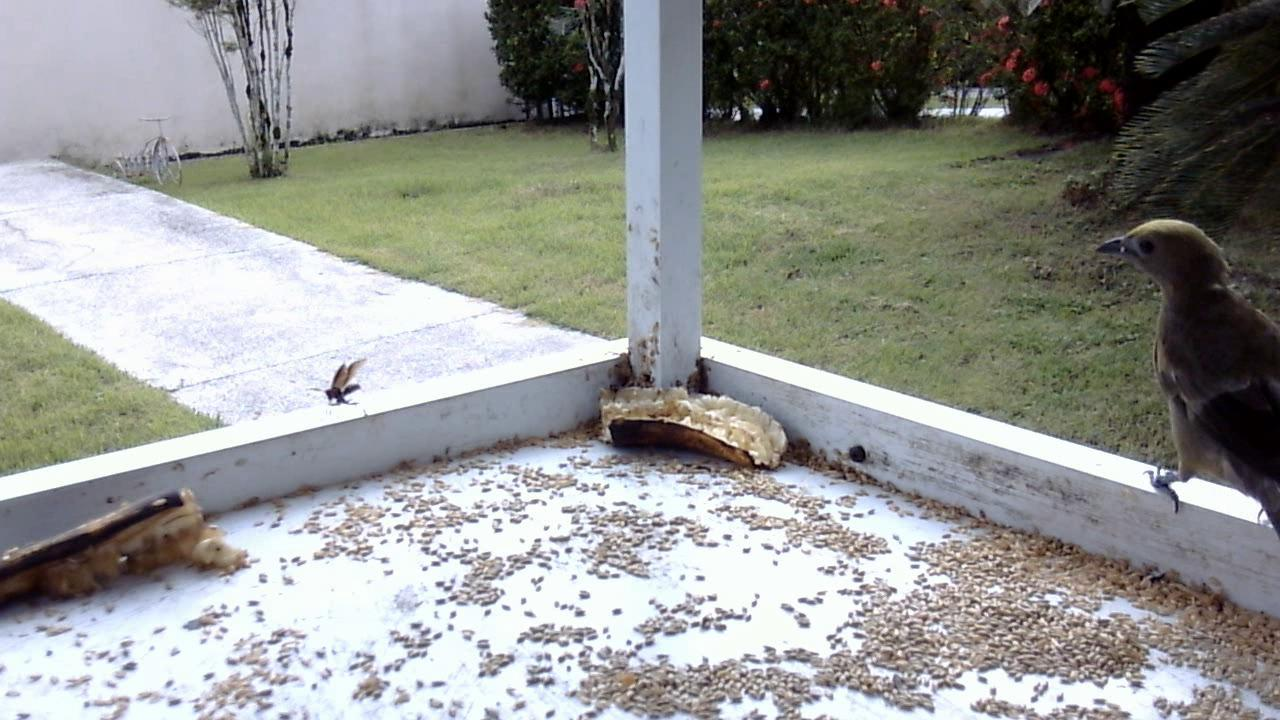sanhaco_do_coqueiro: (1090, 211, 1280, 560)
